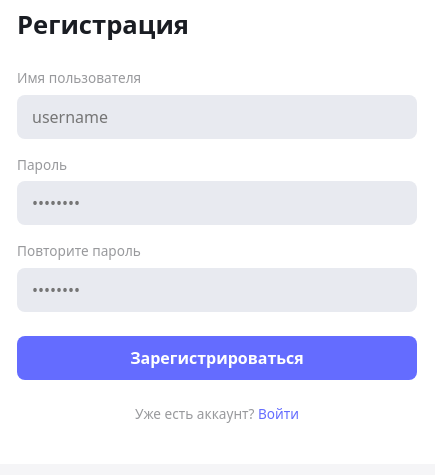
Test: SignUpPage › shows non_field_errors from API response
The image size is (435, 475).
Type "alice" into the field with placeholder "username" at {"x": 217, "y": 117}, box [17,95,417,139]
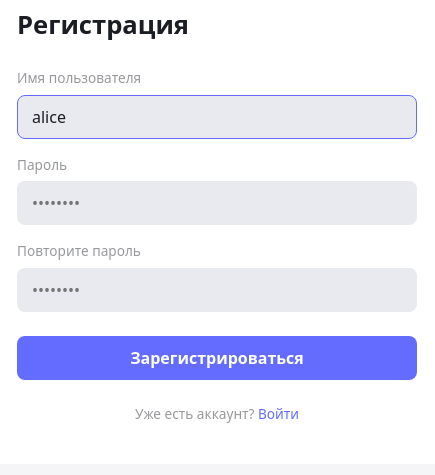
Type "pass123" into the 1st password field with placeholder "••••••••" at {"x": 217, "y": 203}, box [17,181,417,225]
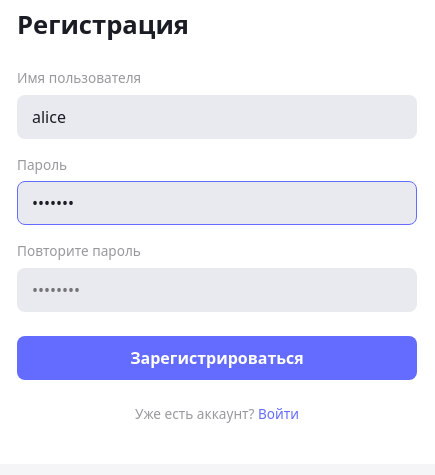
Type "different" into the password field with placeholder "••••••••" at {"x": 217, "y": 290}, box [17,268,417,312]
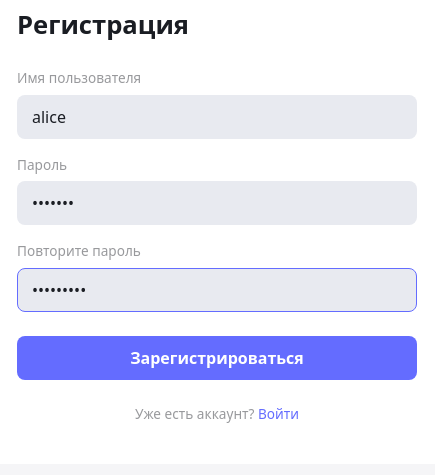
Click the button "Зарегистрироваться" at {"x": 217, "y": 358}, box [17,336,417,380]
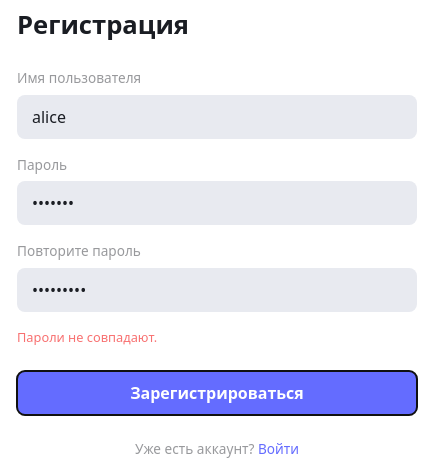
Check: the text "Пароли не совпадают." is shown, box [17,328,157,346]
